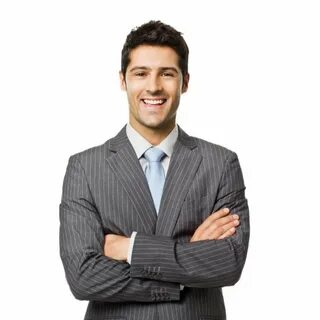awake: (58, 19, 251, 320)
